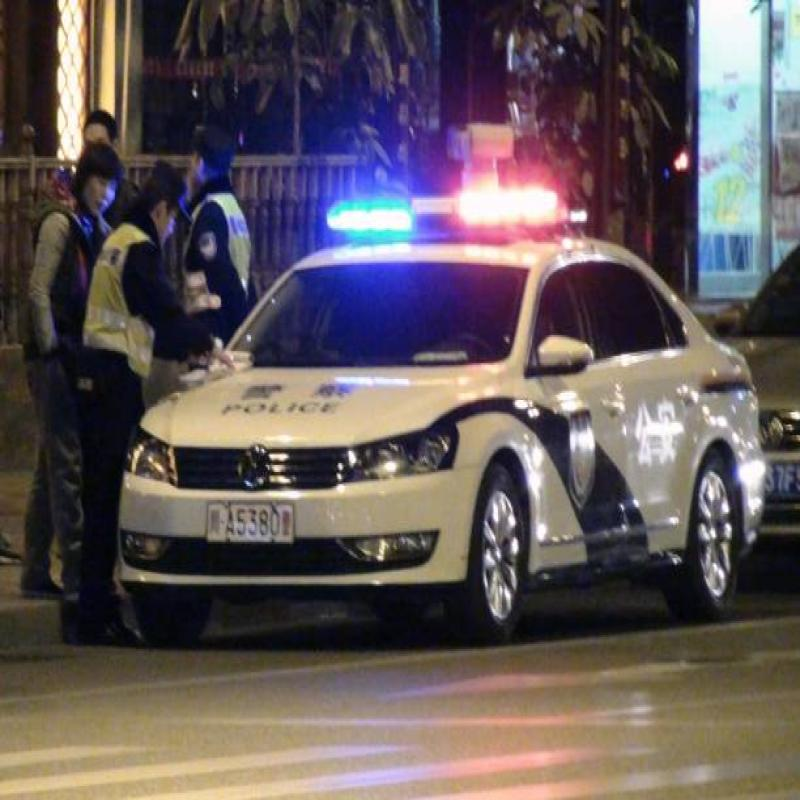AmbulanceSiren: (320, 178, 586, 248)
